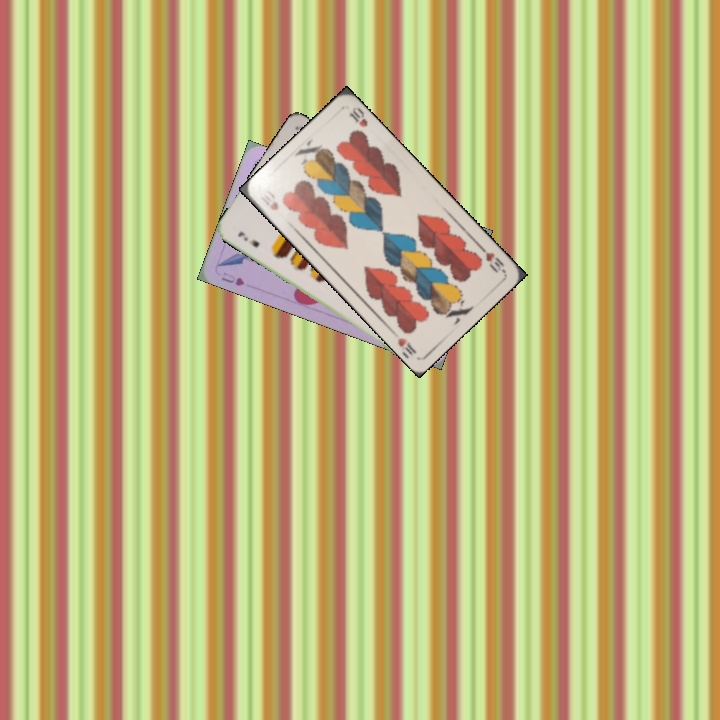E7: (234, 227, 262, 250)
H10: (475, 241, 507, 275), (257, 192, 281, 213)
HU: (217, 268, 248, 288)
